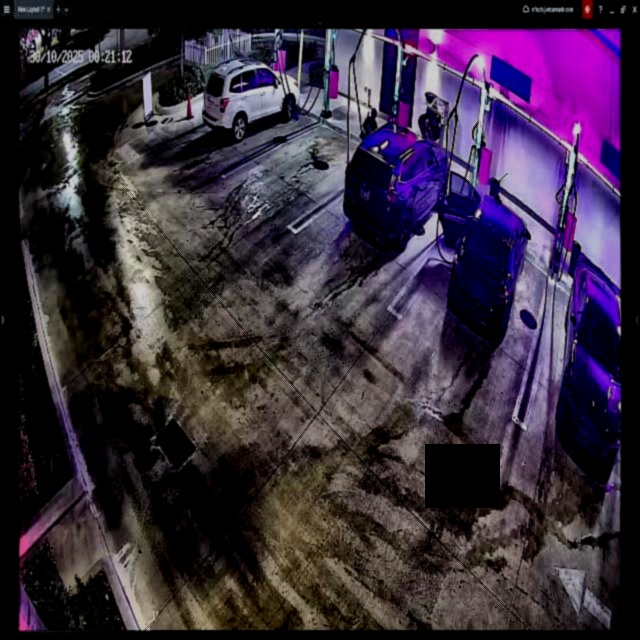Car: (447, 172, 528, 341), (344, 120, 449, 245), (201, 59, 299, 141)
